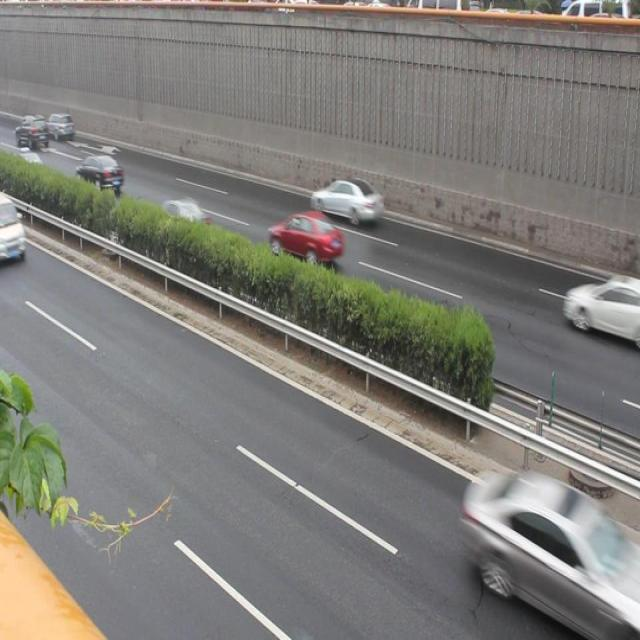car: (457, 461, 640, 640), (561, 268, 640, 350), (265, 207, 342, 268), (310, 173, 384, 228), (150, 195, 211, 242), (74, 153, 125, 194)
